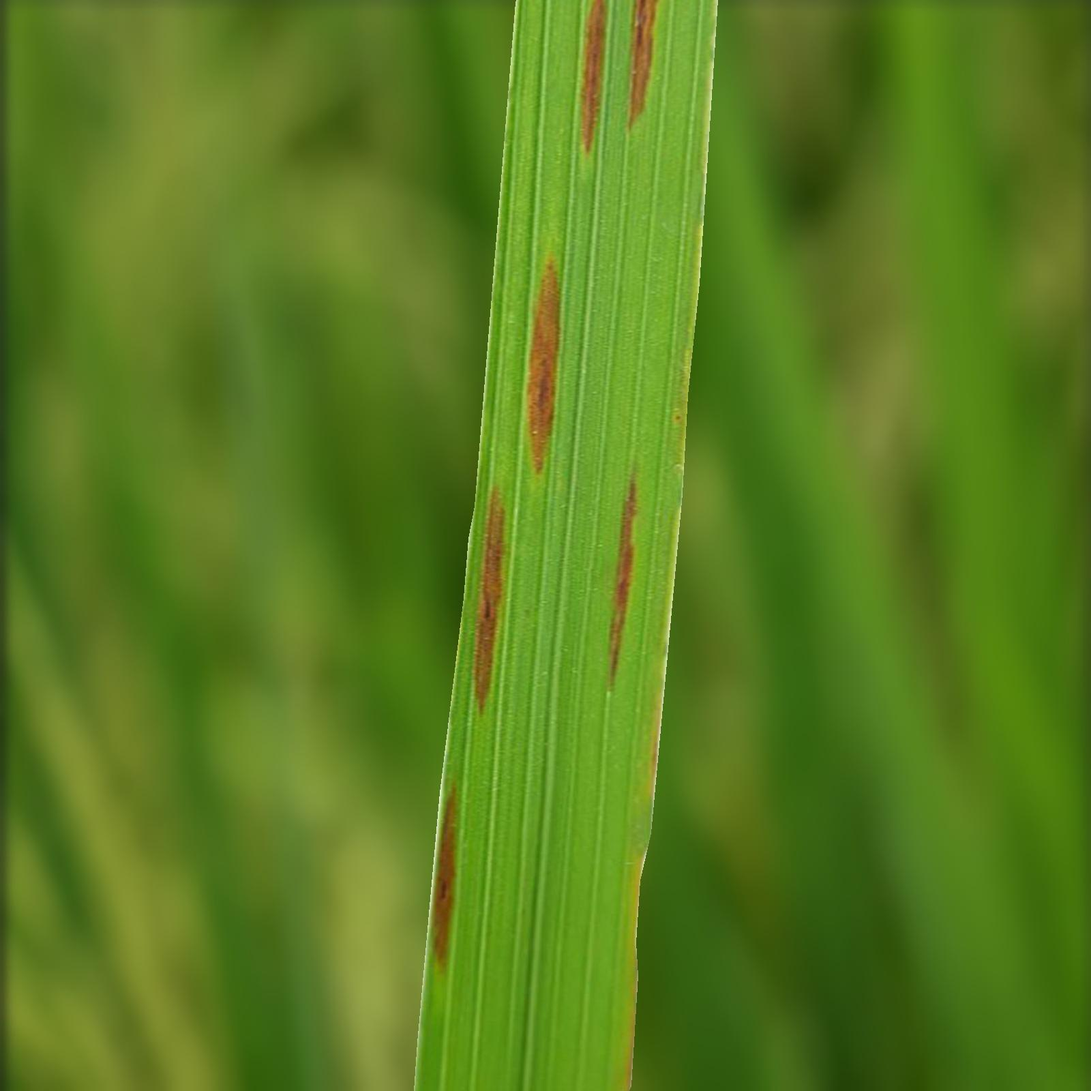LEAF: (414, 0, 717, 1090)
NBS: (528, 257, 560, 473), (473, 488, 504, 710), (610, 474, 638, 688), (430, 786, 457, 970), (581, 0, 606, 152), (630, 0, 658, 127)
